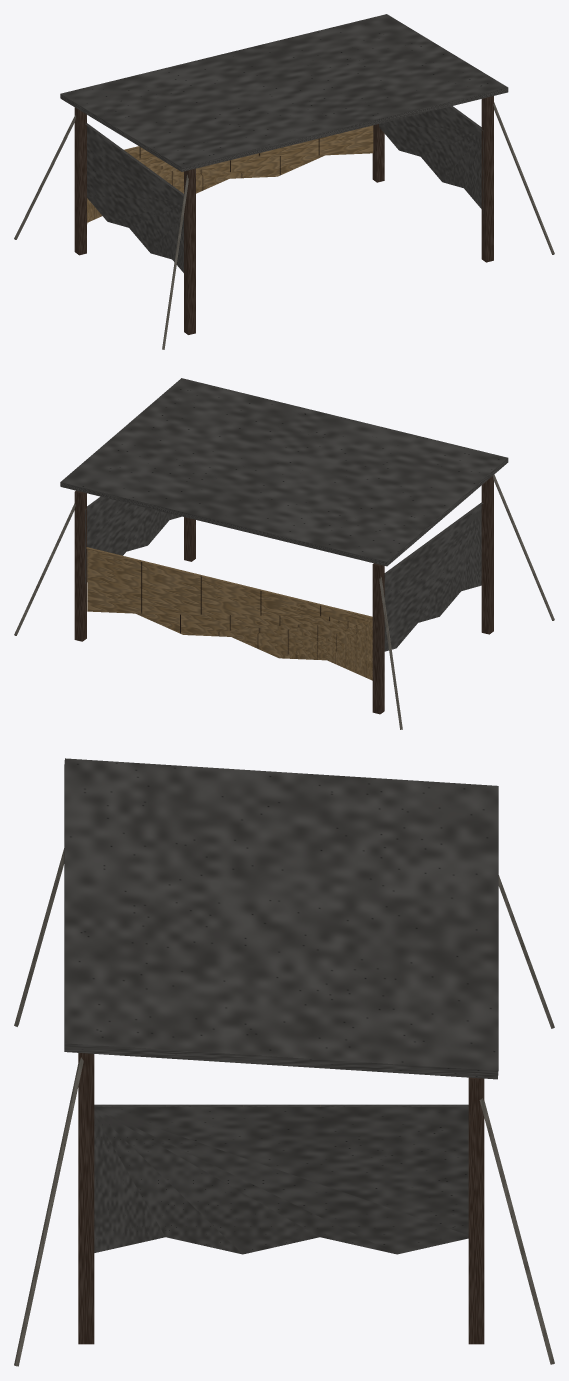
File: desert_tent.glb
3 views of the same model, one above another, from view 1: azimuth 30°, elevation 25°; view 2: azimuth 150°, elevation 25°; view 3: azimuth 270°, elevation 25° (orthographic). The views are drawn at different scales.
Visible parts, largest first — view 1: desert_tent; view 2: desert_tent; view 3: desert_tent.
Boxes of the visible parts, x1,y1,x2,y2 form: desert_tent: [14, 14, 554, 349]; desert_tent: [14, 378, 554, 729]; desert_tent: [14, 758, 554, 1366].
Size of the model in its own units: 3.82 by 1.61 by 2.55.
Materials: 1 (1 with a texture image).
